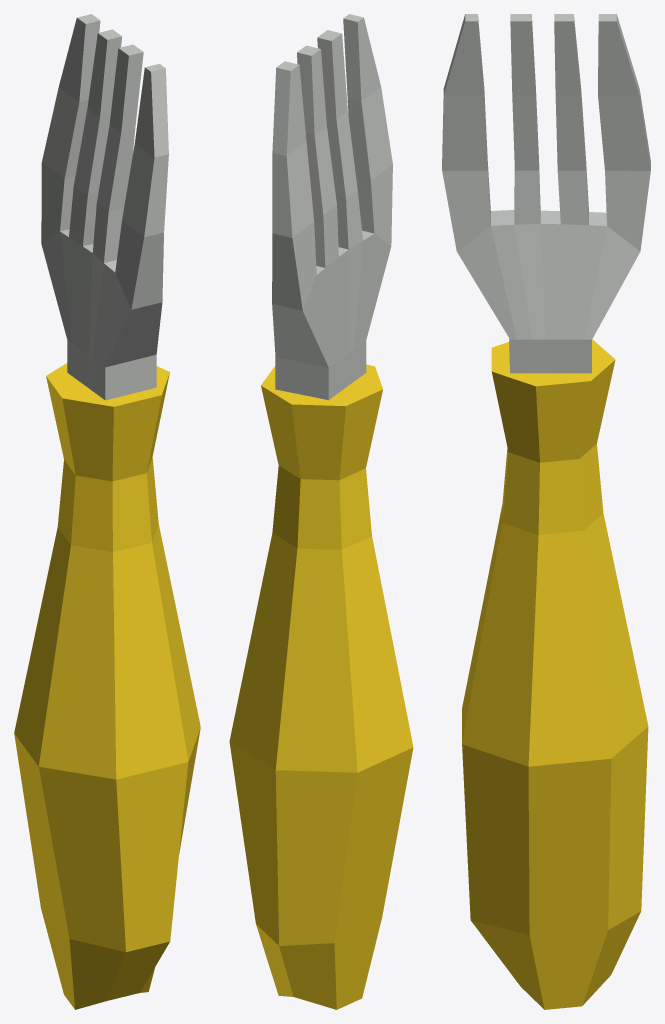
The model's file is fork-yellow.fbx.
The picture shows the model from 3 angles, left to right: view 1: azimuth 30°, elevation 25°; view 2: azimuth 150°, elevation 25°; view 3: azimuth 270°, elevation 25°; orthographic projection. The views are drawn at different scales.
Parts seen in each view (by area): view 1: fork.003; view 2: fork.003; view 3: fork.003.
Boxes of the visible parts, bbox=[...] form: fork.003: bbox=[14, 14, 200, 1009]; fork.003: bbox=[229, 14, 413, 1009]; fork.003: bbox=[442, 14, 650, 1009].
Size of the model in its own units: 142 by 800 by 155.
